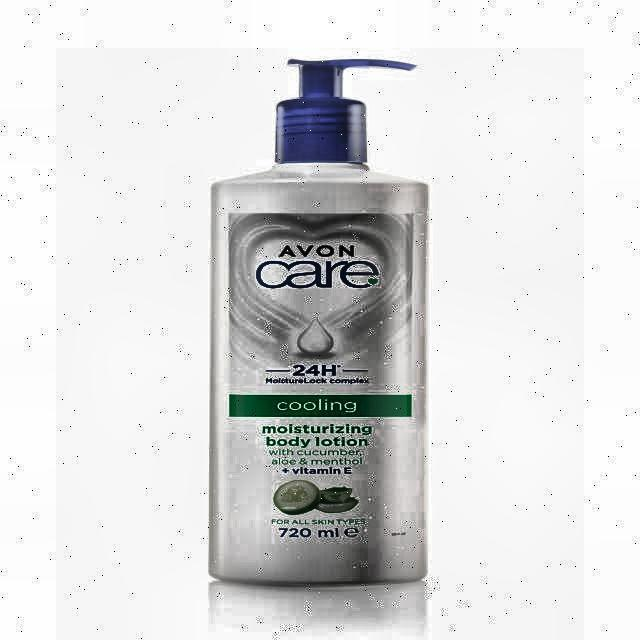plastic: (207, 59, 431, 589)
